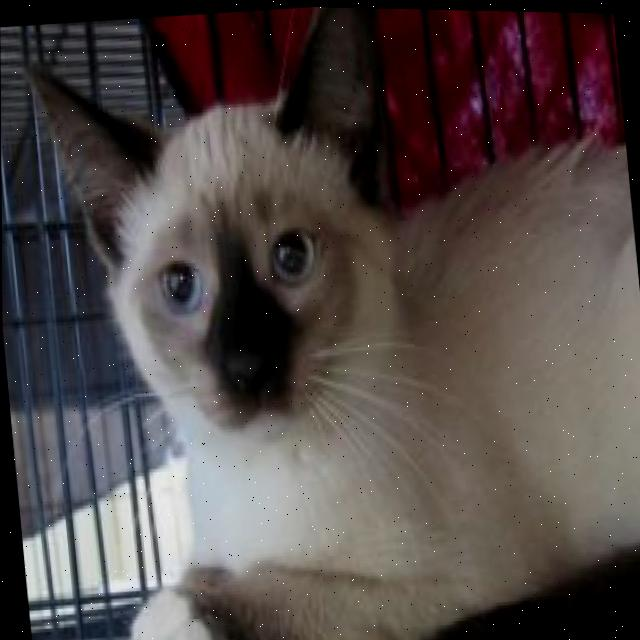Siamese: (13, 0, 640, 640)
